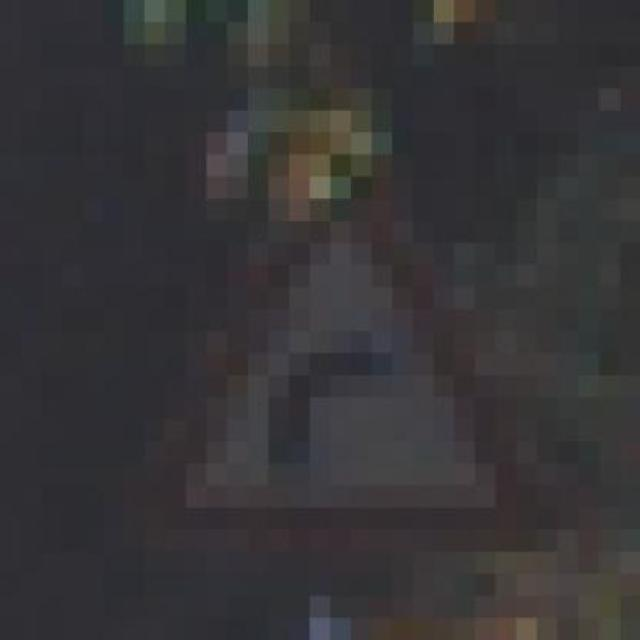Dangerous Rright Curve Ahead: (114, 158, 548, 556)
